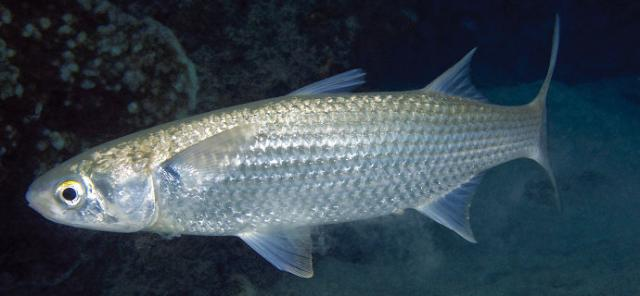Mulut: (18, 182, 74, 236)
Sirip Anal: (410, 159, 494, 243)
Sirip Dada: (163, 114, 259, 190)
Sirip Ekor: (539, 11, 577, 215)
Sirip Perut: (237, 221, 325, 282)
Sirip Punggung: (290, 35, 496, 115)
